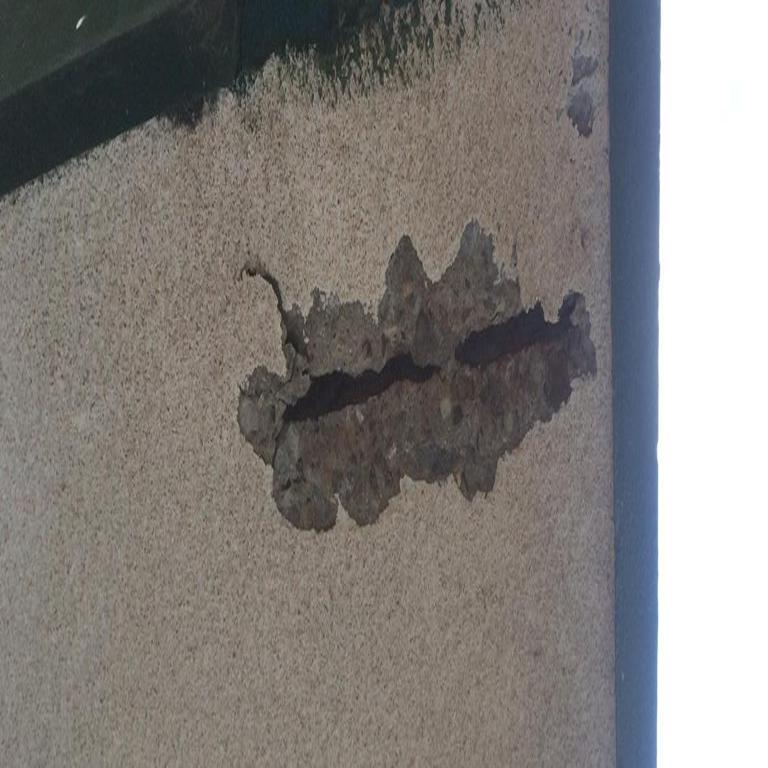exposed_rebar: (284, 354, 440, 422), (454, 292, 592, 367)
spalling: (240, 222, 596, 530), (567, 84, 596, 136), (572, 54, 598, 85)
